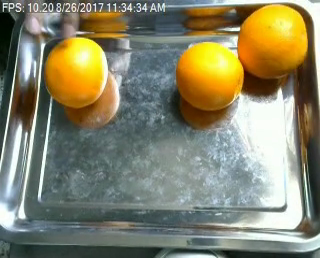Orange: (236, 3, 308, 77), (176, 42, 244, 110), (43, 37, 106, 107)
